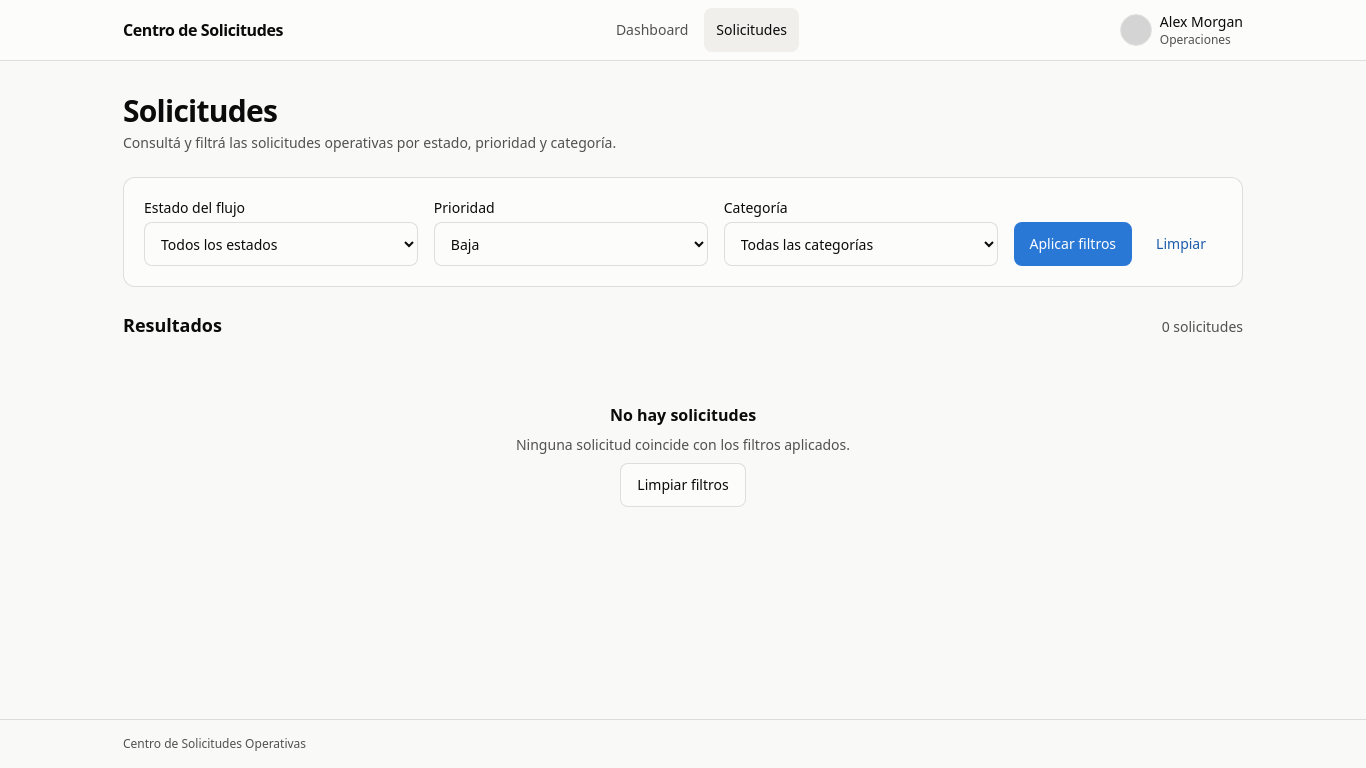
it: Requests list › shows an empty state and lets the user clear the filters
expect the text "No hay solicitudes" is shown: met, box [610,403,756,427]
expect the text "Ninguna solicitud coincide con los filtros aplicados." is shown: met, box [516,435,850,455]
Click the button "Limpiar filtros" at (683, 485), box [620,463,746,507]
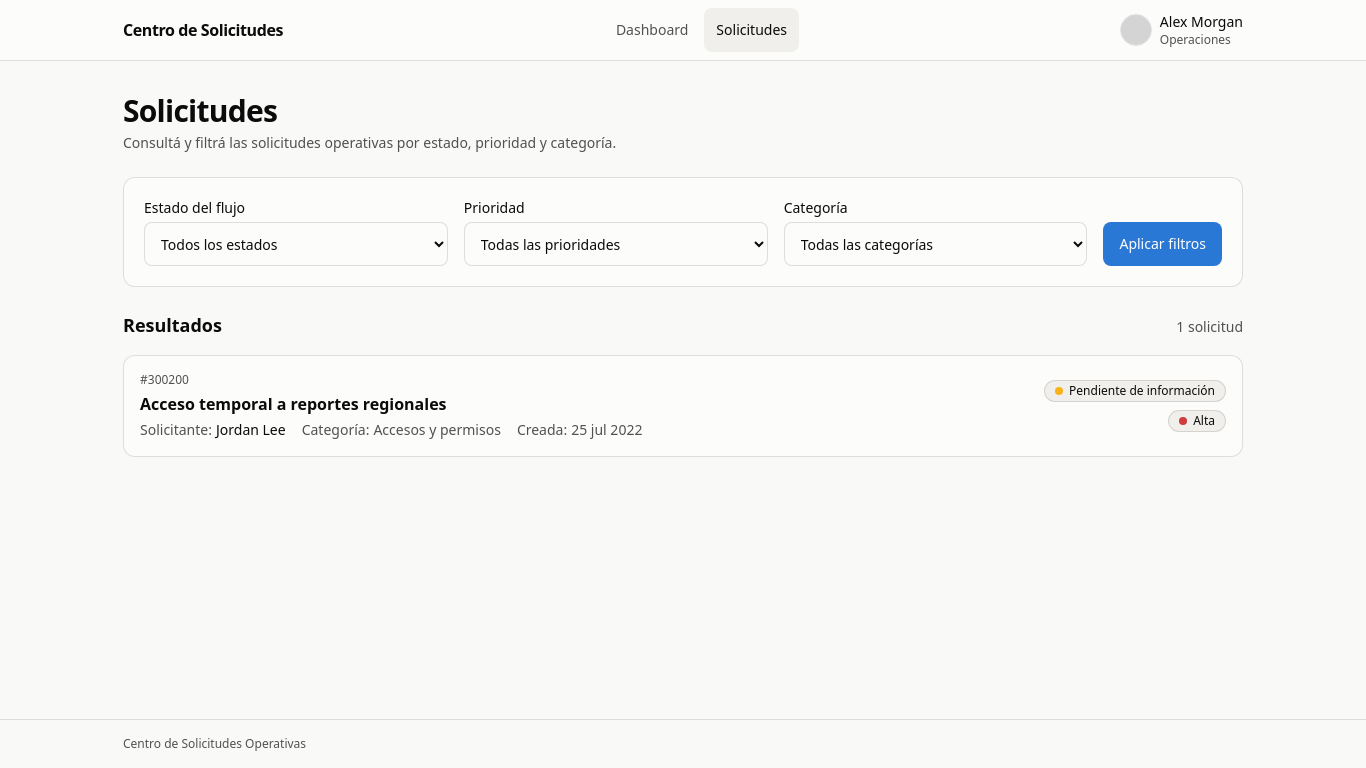
expect the element that starts with "Acceso temporal a reportes regionales" is shown: met, box [123,355,1243,457]
